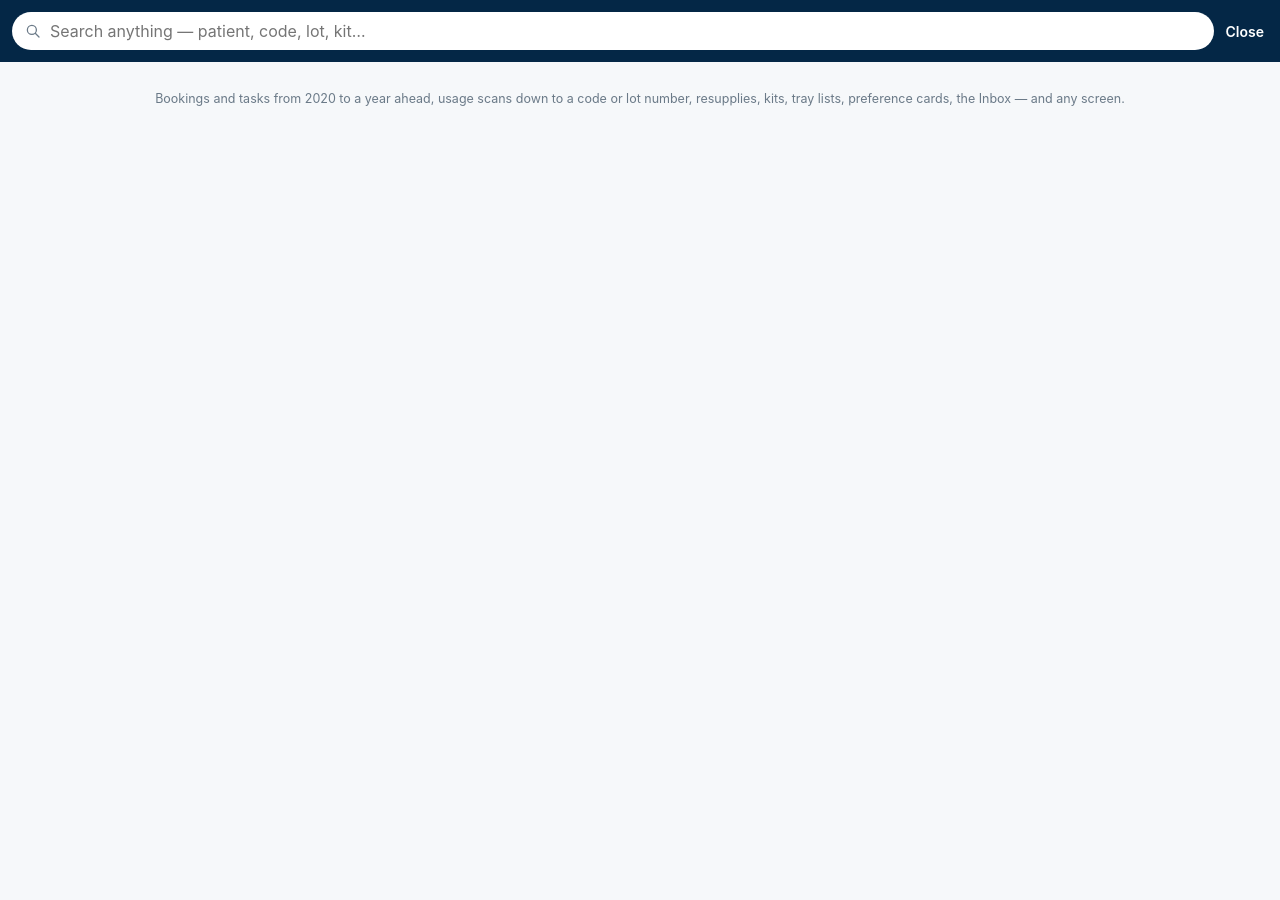
Test: the search sheet › searches as you type and splits coming up from past
The image size is (1280, 900).
Step 1. Type "testa" into the search field → (626, 31), box [50, 12, 1202, 50]
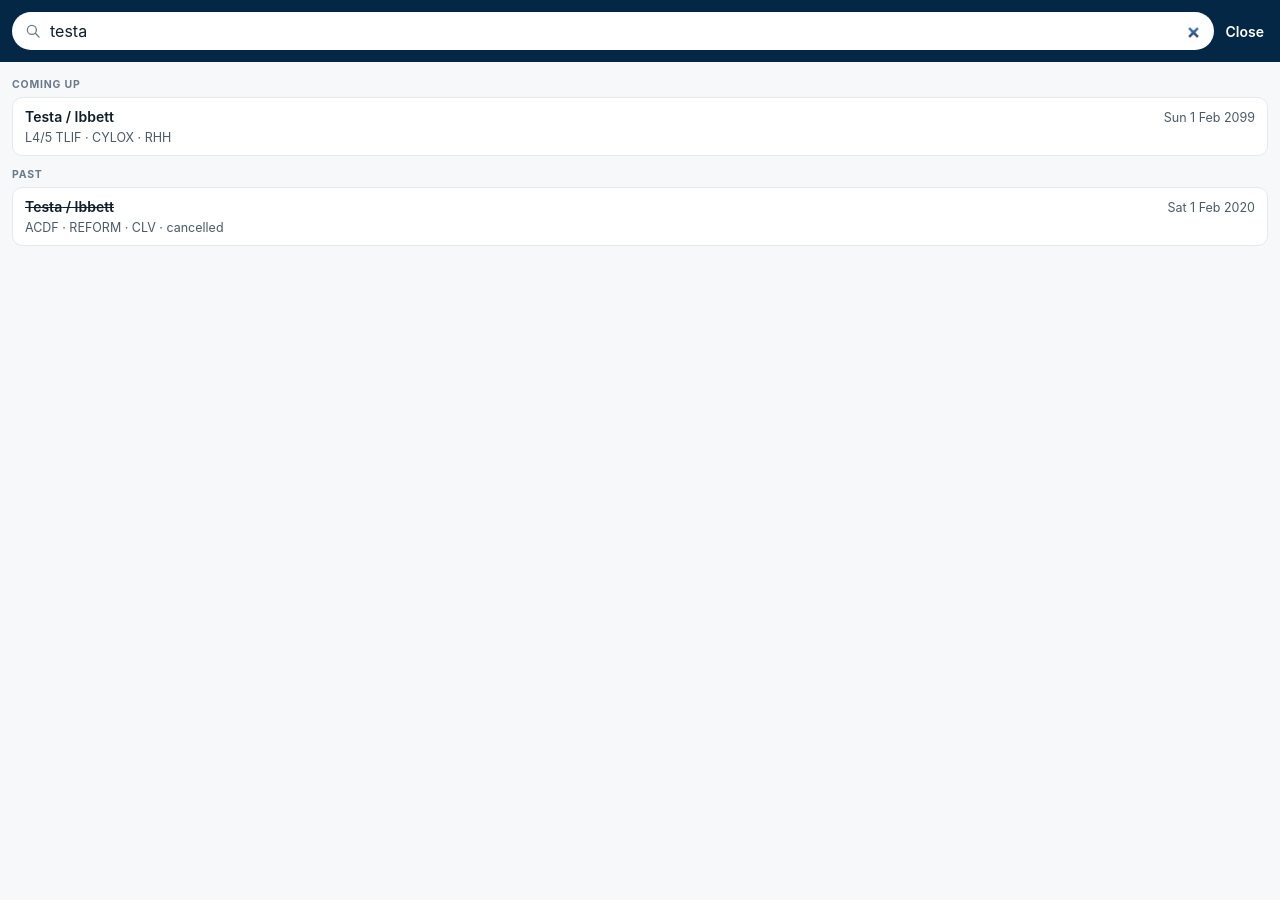
Expected: the text "Coming up" is shown, [12, 78, 81, 91]
Expected: the text "Past" is shown, [12, 168, 43, 181]
